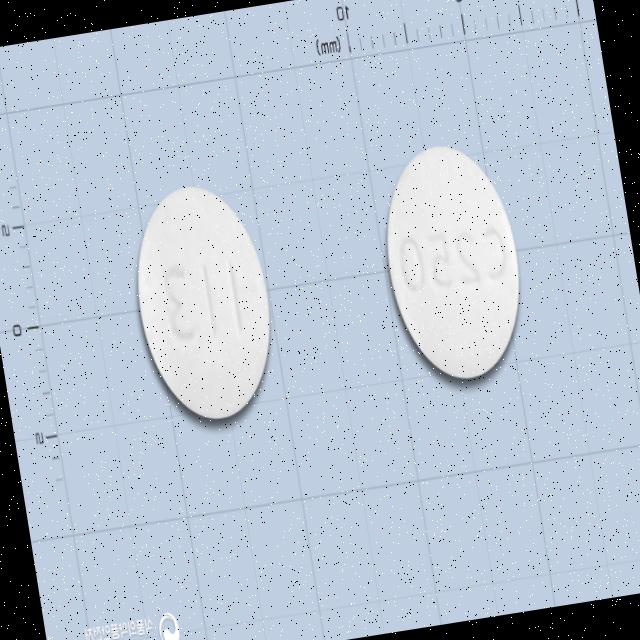Ciprofloxacin Hcl Tab- Ilyang: (114, 166, 292, 438), (365, 133, 536, 399)
